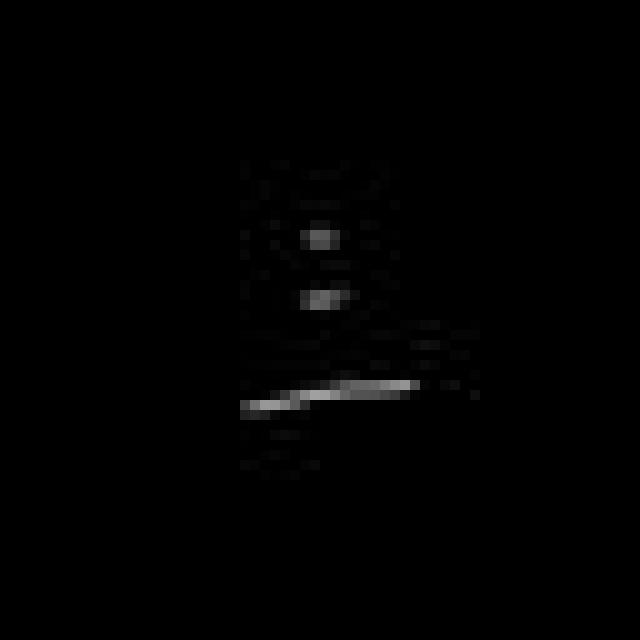3 -three-: (222, 204, 426, 435)
